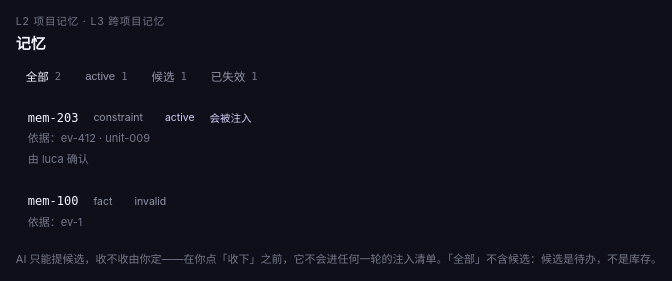
Test: 记忆页 › 候选筛选只显示候选
Step 1. Click the tab "候选 1" → {"x": 169, "y": 76}, box x1=142 y1=64 x2=197 y2=88
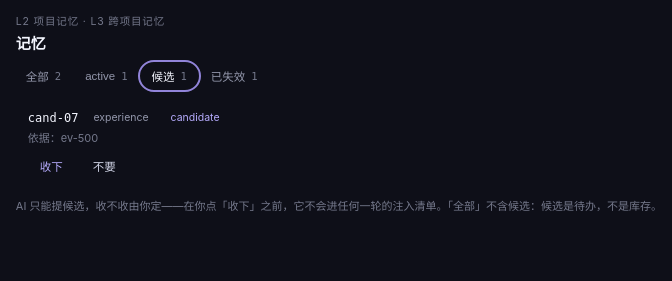
expect the text "cand-07" is shown: met, box x1=28 y1=111 x2=78 y2=125
expect the text "mem-203" is gone: met
